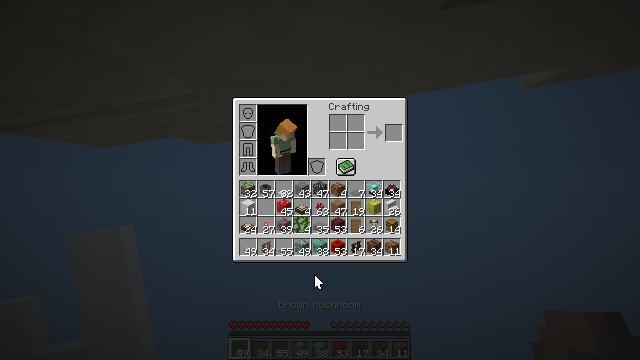cursor: (274, 314, 290, 324)
